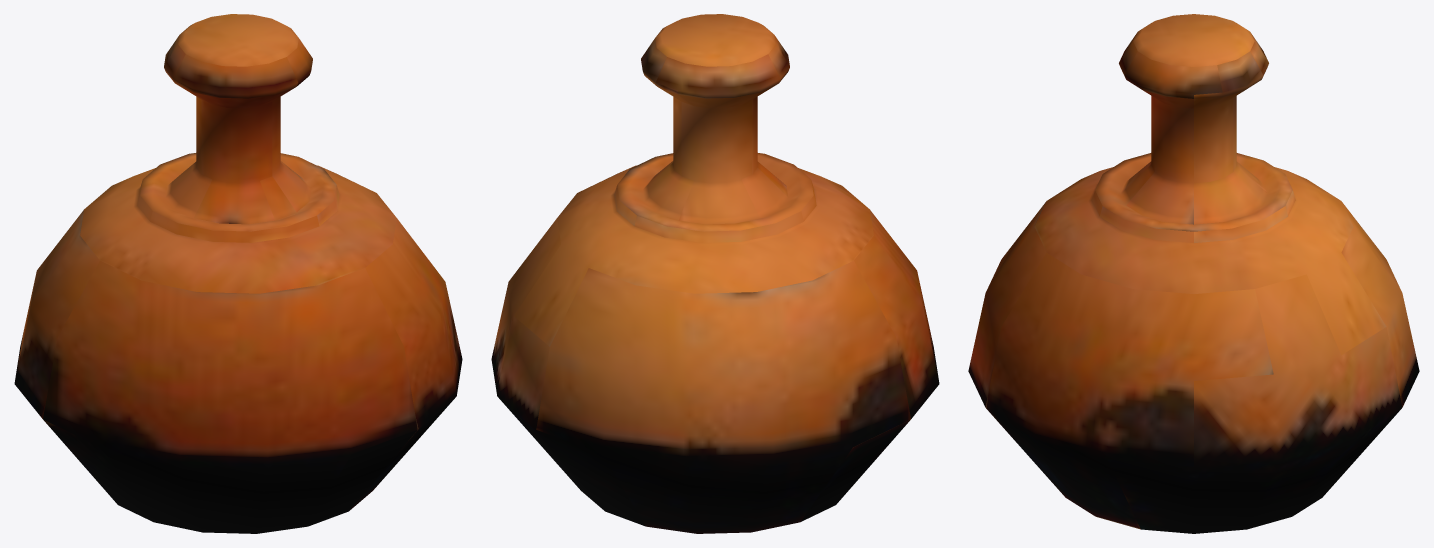
Rendered from joystick.glb.
3 renders of one model, left to right at view 1: azimuth 30°, elevation 25°; view 2: azimuth 150°, elevation 25°; view 3: azimuth 270°, elevation 25°, orthographic.
Parts seen in each view (by area): view 1: Joystick.001; view 2: Joystick.001; view 3: Joystick.001.
Part boxes in pixels (<box>): Joystick.001: <box>14,14,462,533</box>; Joystick.001: <box>491,14,939,533</box>; Joystick.001: <box>968,14,1419,533</box>.
Bounding box in the file's own units: 0.1721 × 0.1843 × 0.1721.
Materials: 1 (1 with a texture image).
